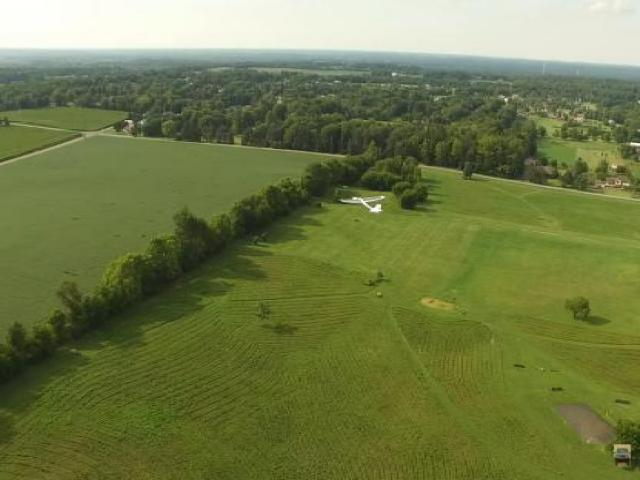uav: (334, 188, 394, 222)
